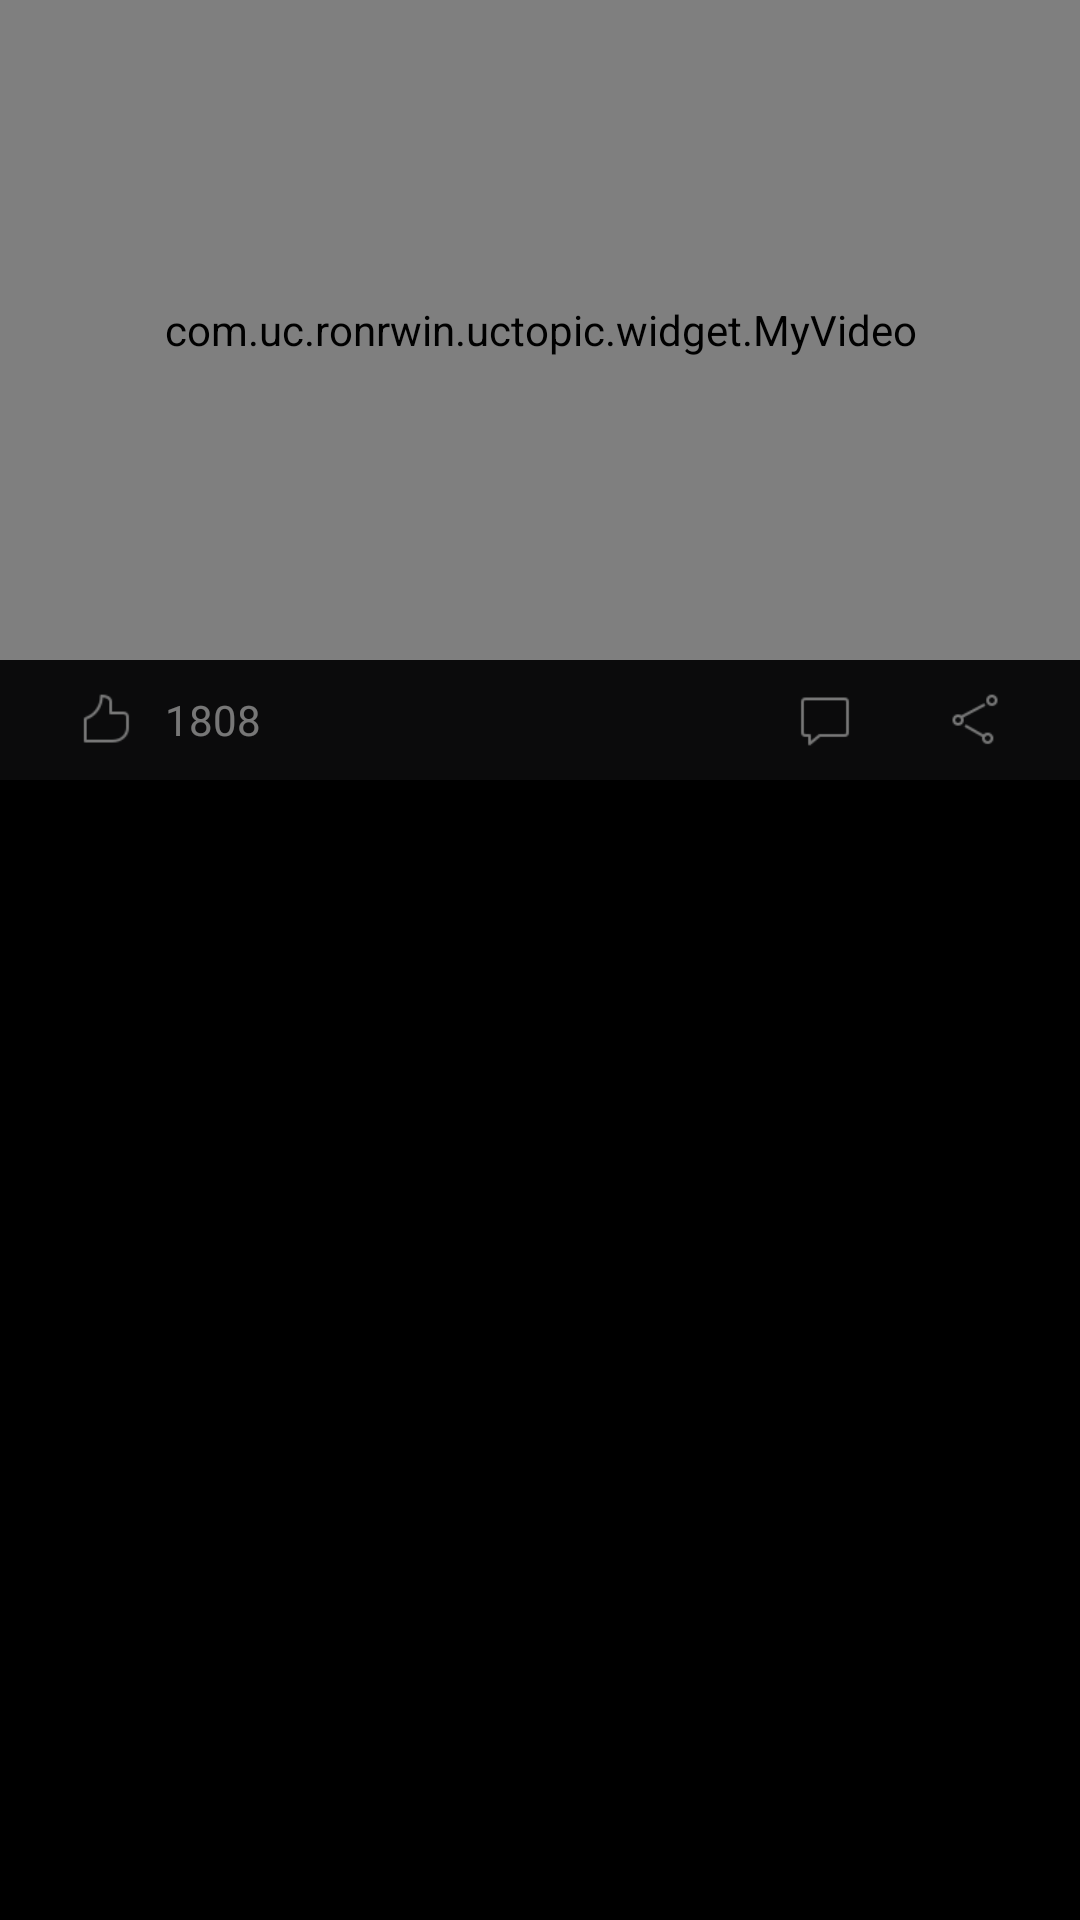

Point at icon controls on the screen. Image size 1080 x 1920, points as (x,y).
infoflow support: (106,718)
infoflow toolbar comment wt: (825,721)
share: (975,719)
